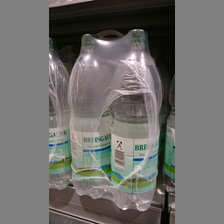water: (111, 29, 161, 211), (67, 33, 109, 201)
